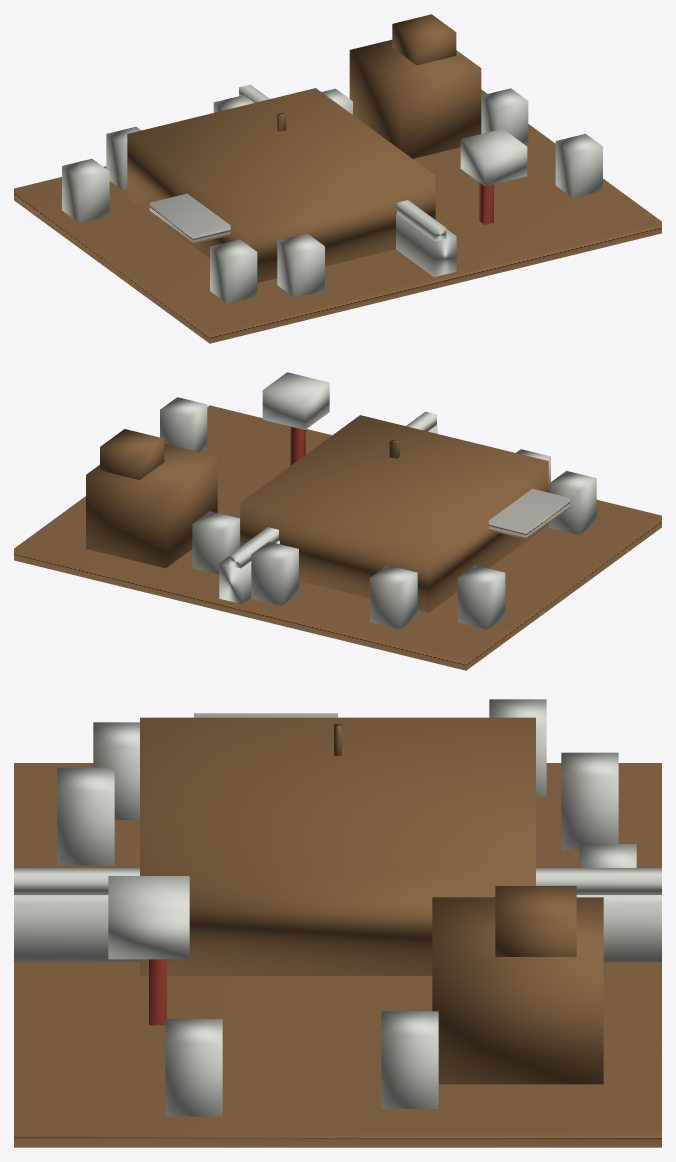
3 renders of one model, top to bottom at view 1: azimuth 30°, elevation 25°; view 2: azimuth 150°, elevation 25°; view 3: azimuth 270°, elevation 25°, orthographic. The views are drawn at different scales.
Visible parts, largest first — view 1: rocks_simplified, features_simplified; view 2: rocks_simplified, features_simplified; view 3: rocks_simplified, features_simplified.
Boxes of the visible parts, x1,y1,x2,y2 form: rocks_simplified: (14, 14, 661, 343); features_simplified: (62, 84, 602, 303); rocks_simplified: (14, 405, 661, 670); features_simplified: (160, 372, 596, 629); rocks_simplified: (14, 717, 661, 1147); features_simplified: (14, 699, 661, 1116).
Size of the model in its own units: 48 by 11.8 by 36.
2 materials, 2 textured.
